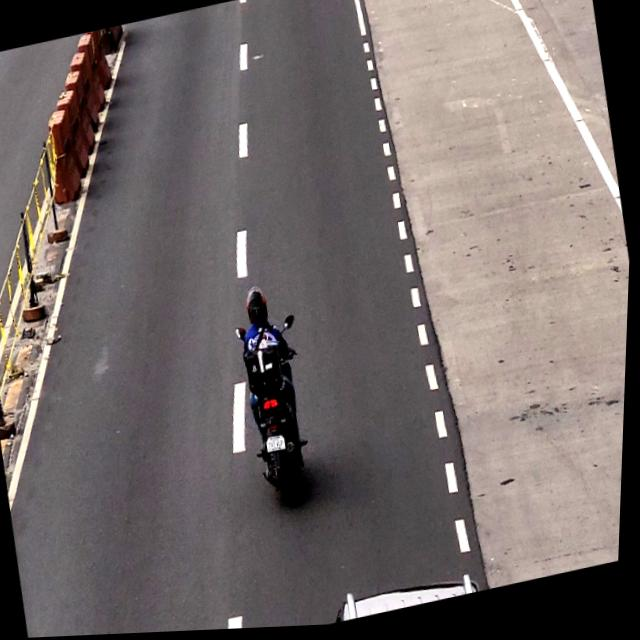License-Plate: (266, 434, 292, 457)
Motorcycle: (234, 280, 324, 505)
